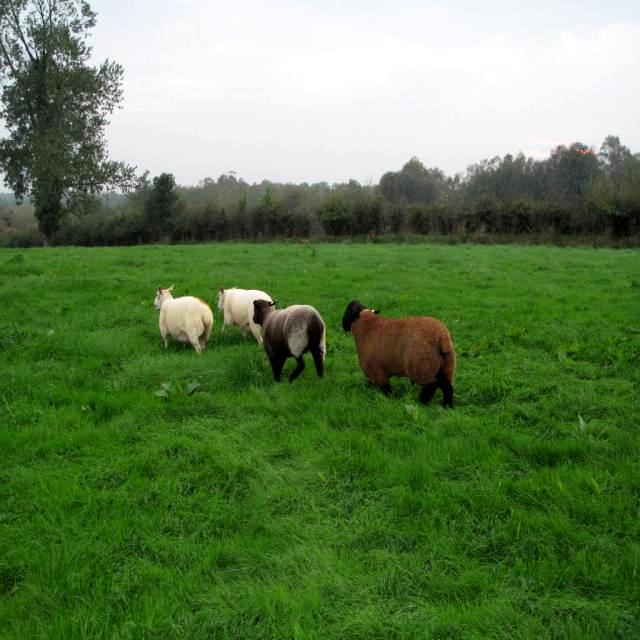sheep: (342, 302, 456, 407), (252, 300, 323, 381), (155, 286, 212, 349), (217, 285, 271, 343)
